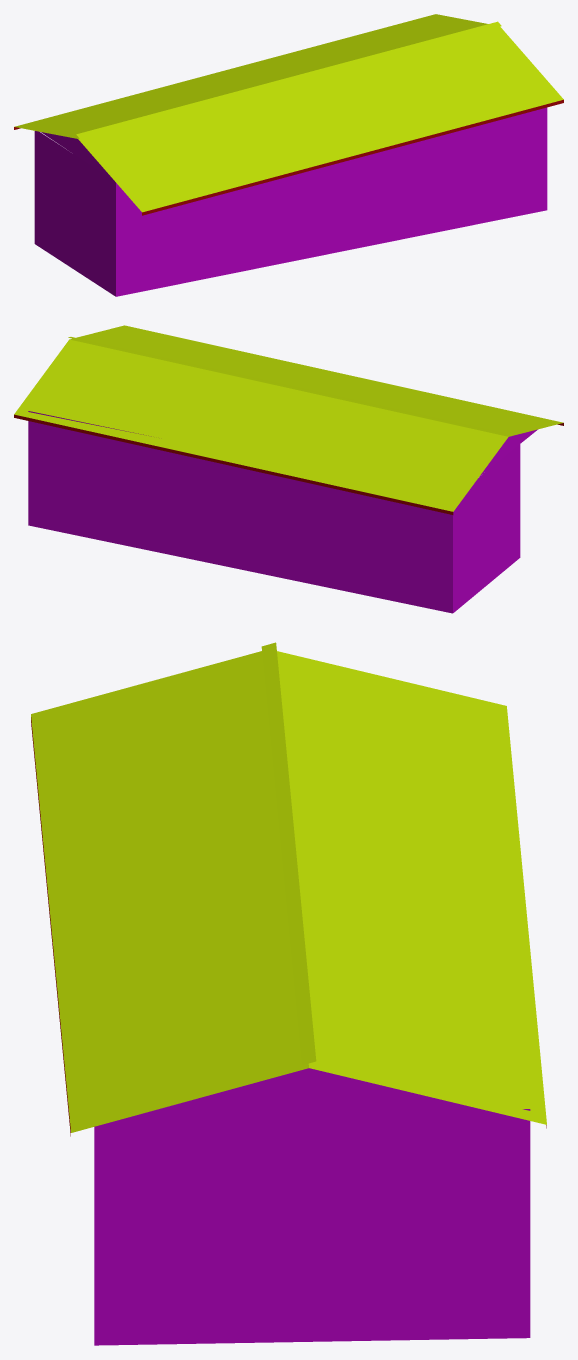
Rendered from bgj_217.glb.
3 views of the same model, one above another, from view 1: azimuth 30°, elevation 25°; view 2: azimuth 150°, elevation 25°; view 3: azimuth 270°, elevation 25° (orthographic). The views are drawn at different scales.
Parts seen in each view (by area): view 1: bgj_217; view 2: bgj_217; view 3: bgj_217.
Boxes of the visible parts, <box> form: bgj_217: <box>14,14,563,296</box>; bgj_217: <box>14,325,563,613</box>; bgj_217: <box>31,642,546,1345</box>.
Bounding box in the file's own units: 16.73 × 5.31 × 8.54.
